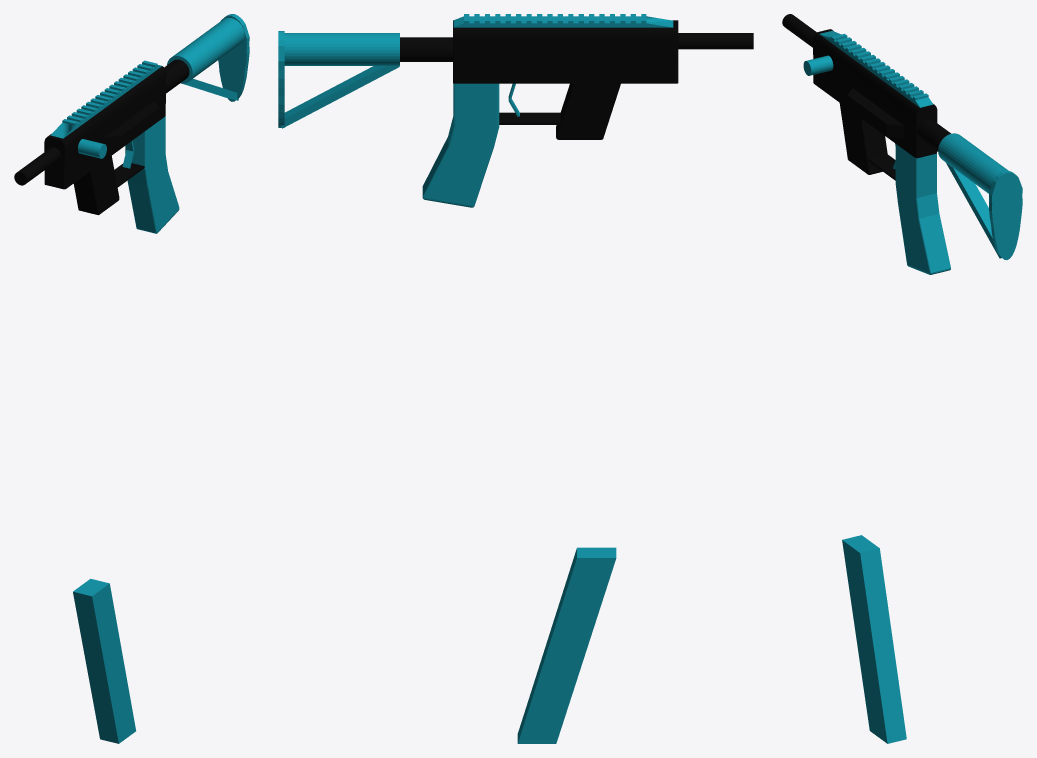
File: fgc0011.obj
3 views of the same model, side by side, from view 1: azimuth 30°, elevation 25°; view 2: azimuth 150°, elevation 25°; view 3: azimuth 270°, elevation 25° (orthographic). The views are drawn at different scales.
Visible parts, largest first — view 1: mag, upperReceiver, rearPistolGrip, StockCylinder, picatinyRail, magWell, buttPlate, ejectorCover, barrel, bufferTube, stockSupport, chargingHandle; view 2: upperReceiver, mag, rearPistolGrip, StockCylinder, magWell, picatinyRail, stockSupport, bufferTube, barrel, lowerTriggerGuard; view 3: mag, rearPistolGrip, upperReceiver, buttPlate, StockCylinder, picatinyRail, magWell, ejectorCover, stockSupport, bufferTube, barrel, chargingHandle.
Boxes of the visible parts, <box> form: mag: <box>73,578,135,743</box>; upperReceiver: <box>44,66,166,189</box>; rearPistolGrip: <box>125,116,179,233</box>; StockCylinder: <box>167,18,244,83</box>; picatinyRail: <box>50,60,161,138</box>; magWell: <box>73,156,119,215</box>; buttPlate: <box>218,14,249,101</box>; ejectorCover: <box>104,101,159,149</box>; barrel: <box>14,147,60,185</box>; bufferTube: <box>164,59,189,93</box>; stockSupport: <box>182,79,239,100</box>; chargingHandle: <box>78,139,106,158</box>; upperReceiver: <box>453,20,678,83</box>; mag: <box>517,547,616,743</box>; rearPistolGrip: <box>422,83,499,207</box>; StockCylinder: <box>284,33,399,65</box>; magWell: <box>556,83,620,139</box>; picatinyRail: <box>453,14,673,27</box>; stockSupport: <box>280,66,399,128</box>; bufferTube: <box>400,37,452,61</box>; barrel: <box>678,33,753,49</box>; lowerTriggerGuard: <box>499,112,560,124</box>; mag: <box>842,535,906,743</box>; rearPistolGrip: <box>895,144,950,274</box>; upperReceiver: <box>813,29,937,158</box>; buttPlate: <box>989,170,1022,259</box>; StockCylinder: <box>938,133,1007,193</box>; picatinyRail: <box>819,30,933,107</box>; magWell: <box>839,103,887,174</box>; ejectorCover: <box>847,88,903,138</box>; stockSupport: <box>946,163,1001,258</box>; bufferTube: <box>917,119,950,151</box>; barrel: <box>782,14,816,47</box>; chargingHandle: <box>803,55,833,75</box>.
Bounding box in the file's own units: 4.08 × 7.64 × 2.51.
